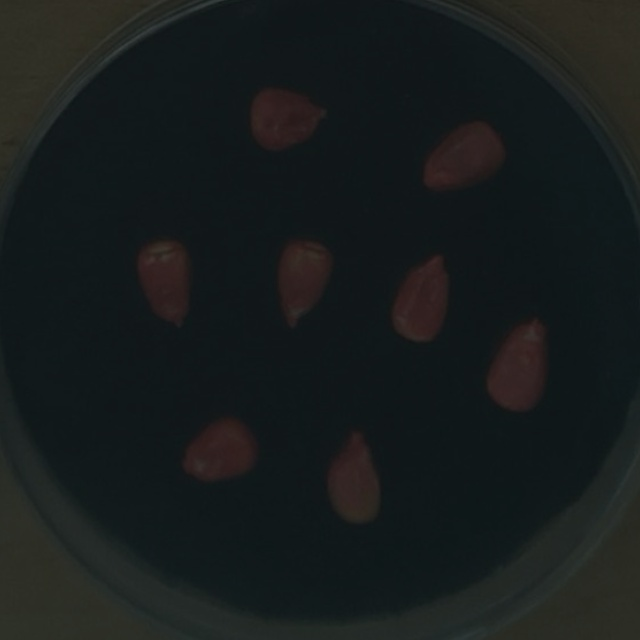Zea mays: (476, 310, 557, 421), (413, 113, 515, 199), (316, 422, 392, 534), (380, 247, 460, 353), (265, 229, 342, 338), (174, 410, 268, 491), (129, 231, 199, 339), (242, 82, 337, 161)
